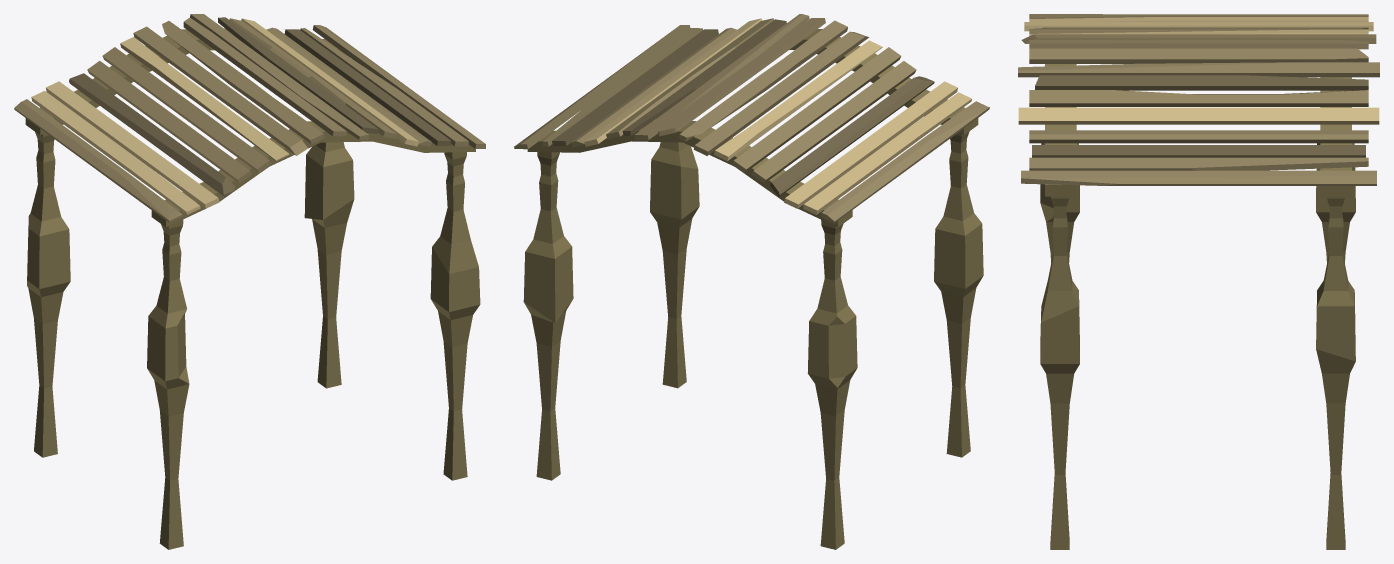
Rendered from Arch.fbx.
The picture shows the model from 3 angles, left to right: view 1: azimuth 30°, elevation 25°; view 2: azimuth 150°, elevation 25°; view 3: azimuth 270°, elevation 25°; orthographic projection. The views are drawn at different scales.
Parts seen in each view (by area): view 1: Cube.287, Cube.288, Cube.311, Cube.286, Cube.294, Cube.303, Cube.304, Cube.301, Cube.302, Cube.305, Cube.290, Cube.292 (+12 smaller); view 2: Cube.286, Cube.288, Cube.311, Cube.287, Cube.303, Cube.304, Cube.294, Cube.302, Cube.301, Cube.305, Cube.290, Cube.292 (+12 smaller); view 3: Cube.286, Cube.287, Cube.299, Cube.309, Cube.293, Cube.298, Cube.297, Cube.296, Cube.300, Cube.308, Cube.307, Cube.292 (+11 smaller).
Boxes of the visible parts, bbox=[...] form: Cube.287: bbox=[430, 152, 480, 480]; Cube.288: bbox=[27, 132, 70, 457]; Cube.311: bbox=[147, 219, 189, 549]; Cube.286: bbox=[304, 142, 354, 388]; Cube.294: bbox=[133, 26, 307, 155]; Cube.303: bbox=[102, 47, 271, 172]; Cube.304: bbox=[46, 81, 219, 208]; Cube.301: bbox=[69, 73, 235, 196]; Cube.302: bbox=[87, 61, 251, 183]; Cube.305: bbox=[31, 91, 200, 214]; Cube.290: bbox=[14, 99, 182, 222]; Cube.292: bbox=[162, 21, 324, 144]; Cube.286: bbox=[523, 152, 573, 480]; Cube.288: bbox=[807, 219, 857, 549]; Cube.311: bbox=[934, 131, 983, 457]; Cube.287: bbox=[650, 142, 699, 388]; Cube.303: bbox=[732, 47, 901, 173]; Cube.304: bbox=[784, 81, 957, 208]; Cube.294: bbox=[693, 31, 868, 155]; Cube.302: bbox=[751, 61, 916, 183]; Cube.301: bbox=[770, 76, 934, 196]; Cube.305: bbox=[803, 92, 971, 214]; Cube.290: bbox=[820, 101, 989, 223]; Cube.292: bbox=[678, 20, 847, 141]; Cube.286: bbox=[1316, 196, 1355, 549]; Cube.287: bbox=[1040, 196, 1079, 549]; Cube.299: bbox=[1018, 107, 1379, 124]; Cube.309: bbox=[1021, 170, 1376, 185]; Cube.293: bbox=[1029, 48, 1368, 63]; Cube.298: bbox=[1029, 90, 1368, 106]; Cube.297: bbox=[1035, 75, 1368, 90]; Cube.296: bbox=[1018, 62, 1379, 77]; Cube.300: bbox=[1029, 130, 1368, 143]; Cube.308: bbox=[1029, 157, 1368, 170]; Cube.307: bbox=[1032, 145, 1365, 157]; Cube.292: bbox=[1029, 40, 1368, 49].
Bounding box in the file's own units: 936 × 1096 × 846.
